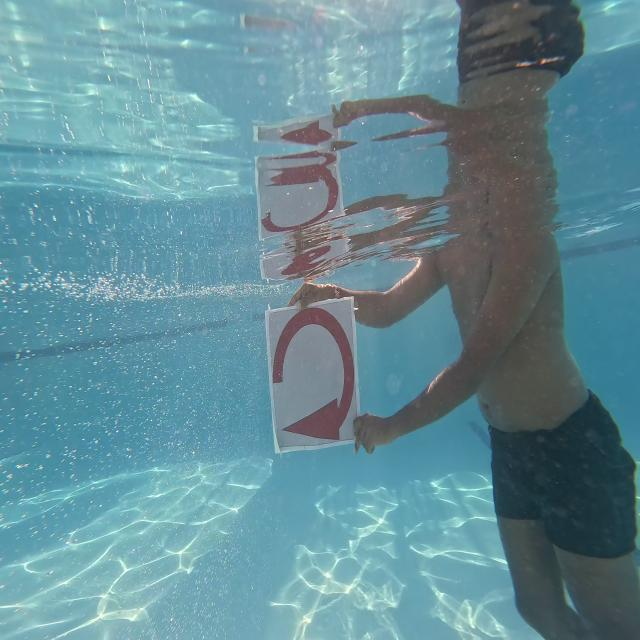red_side: (265, 304, 365, 450)
